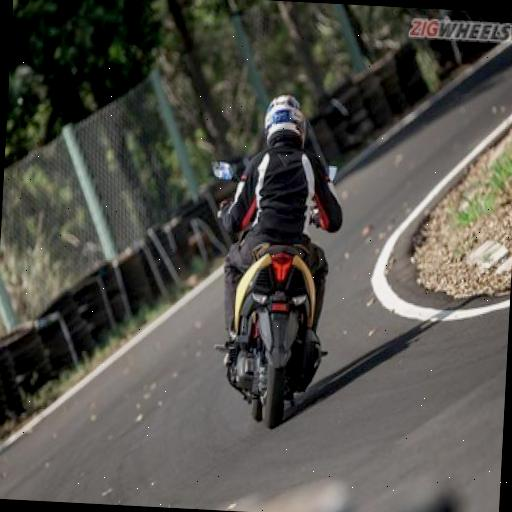helmet: (200, 78, 354, 422)
